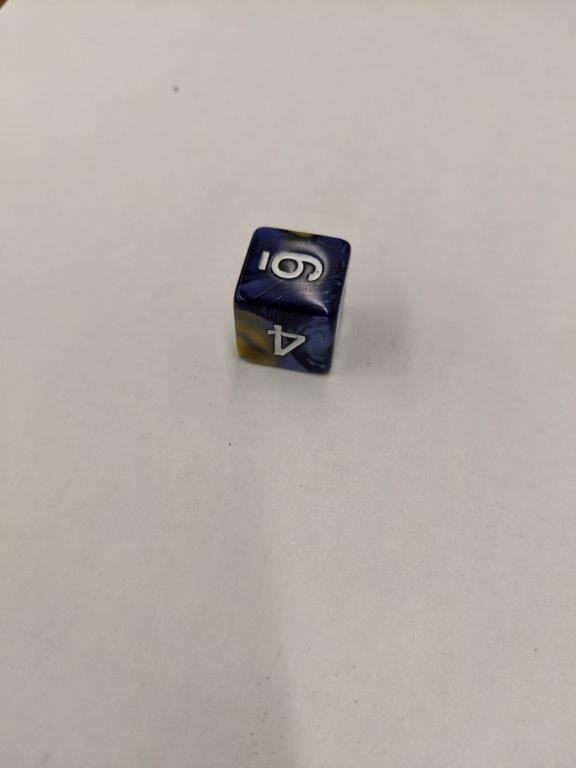d6-6: (232, 223, 356, 381)
